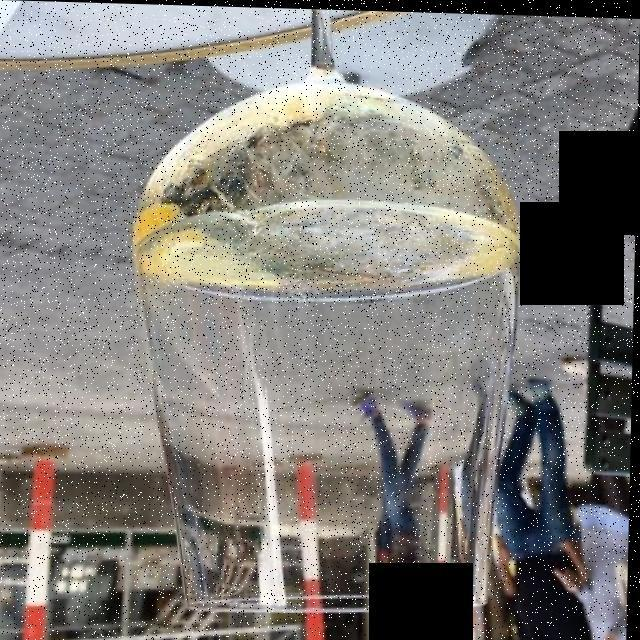sekt: (124, 65, 536, 306)
